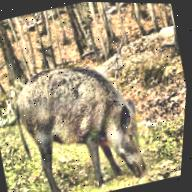boar: (0, 39, 167, 192)
